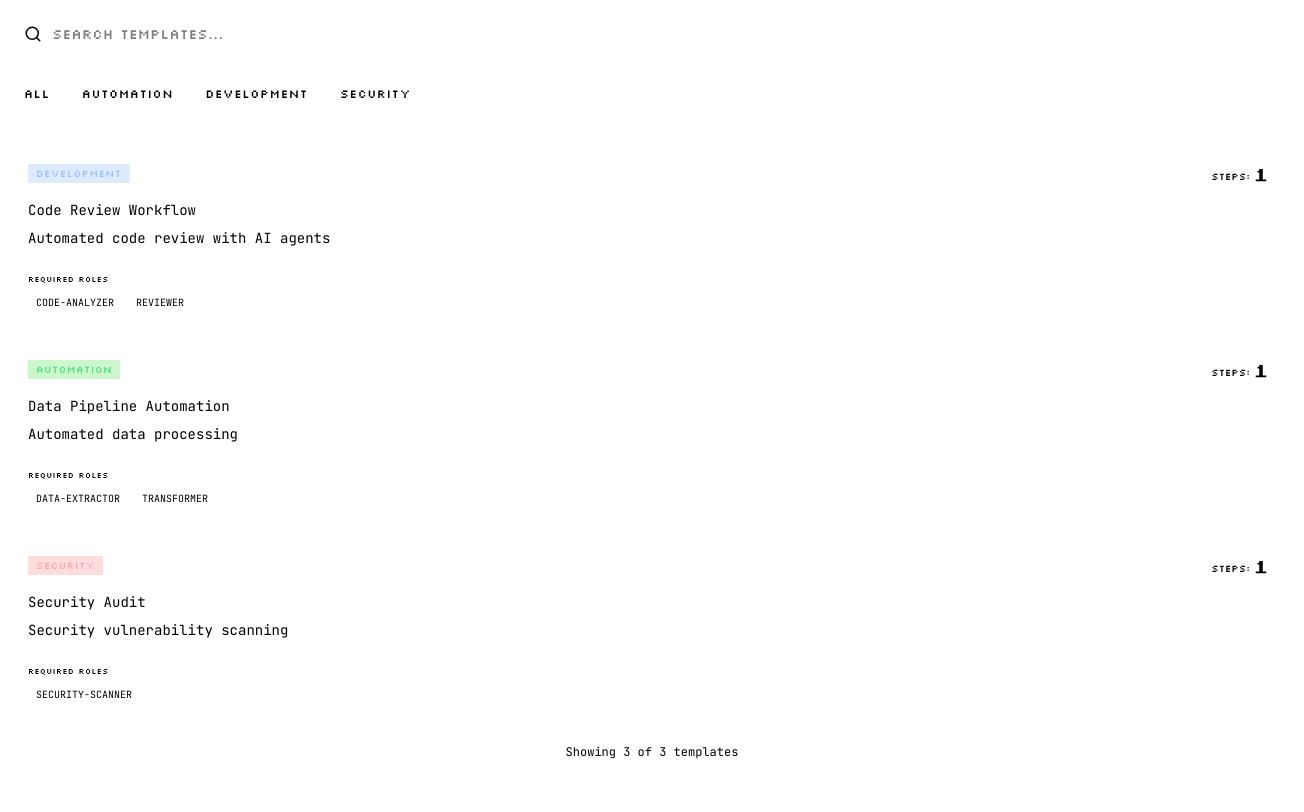
IntentGallery › category filtering › shows all templates when "all" is selected
This screenshot has width=1304, height=812.
Filter to development first
Click the button with test id "category-tab-development": (257, 94) 193,80 -> 320,108
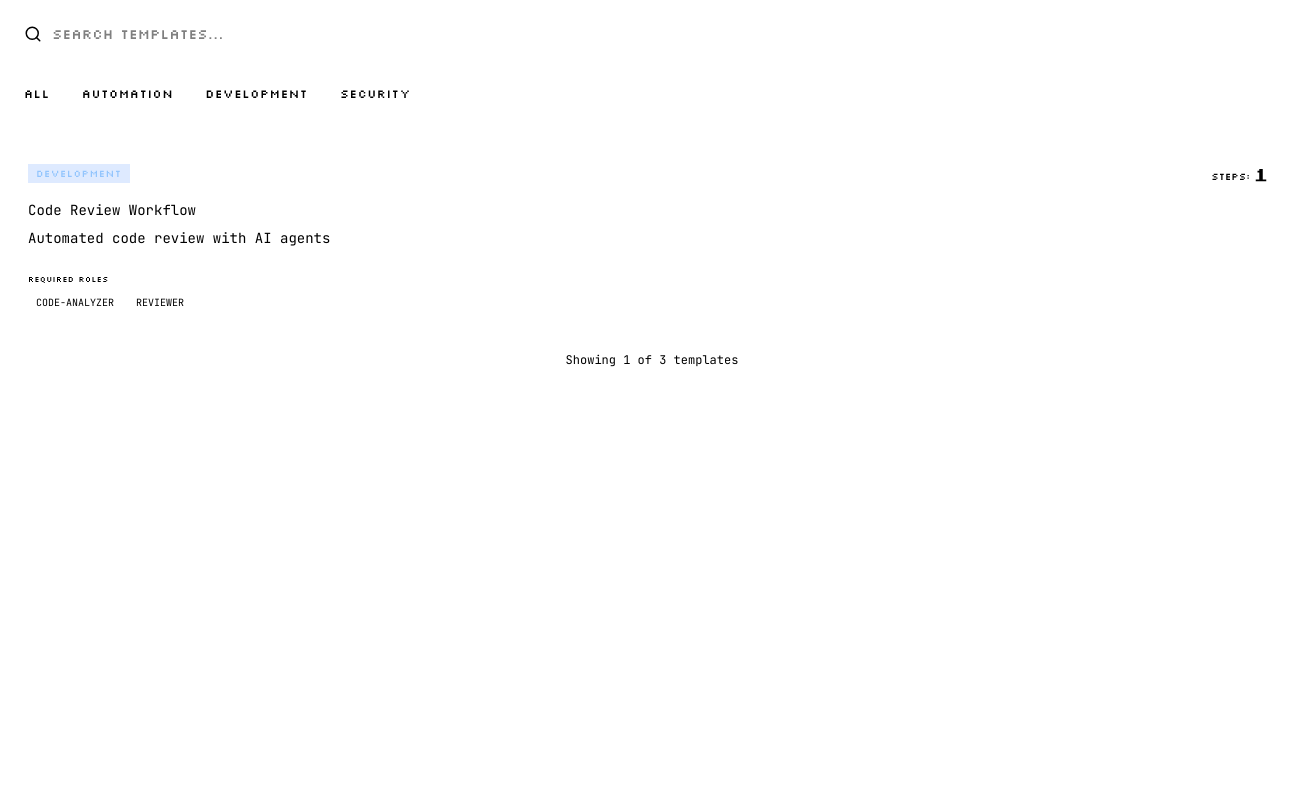
Now the number of elements with test id "intent-card" is 1, box 12,148 -> 1292,328
Click all
Click the button with test id "category-tab-all": (37, 94) 12,80 -> 62,108
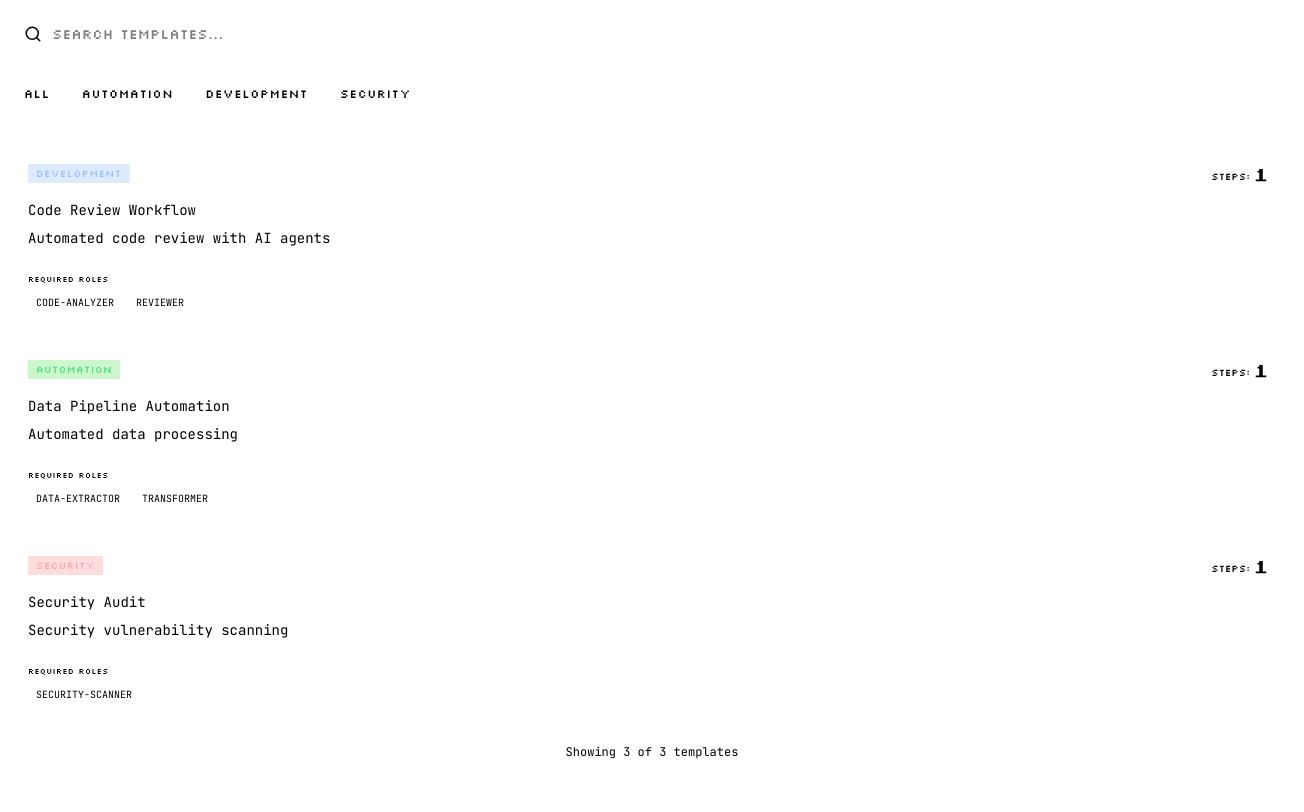
Now the number of elements with test id "intent-card" is 3, box 12,148 -> 1292,328; 12,344 -> 1292,524; 12,540 -> 1292,720
